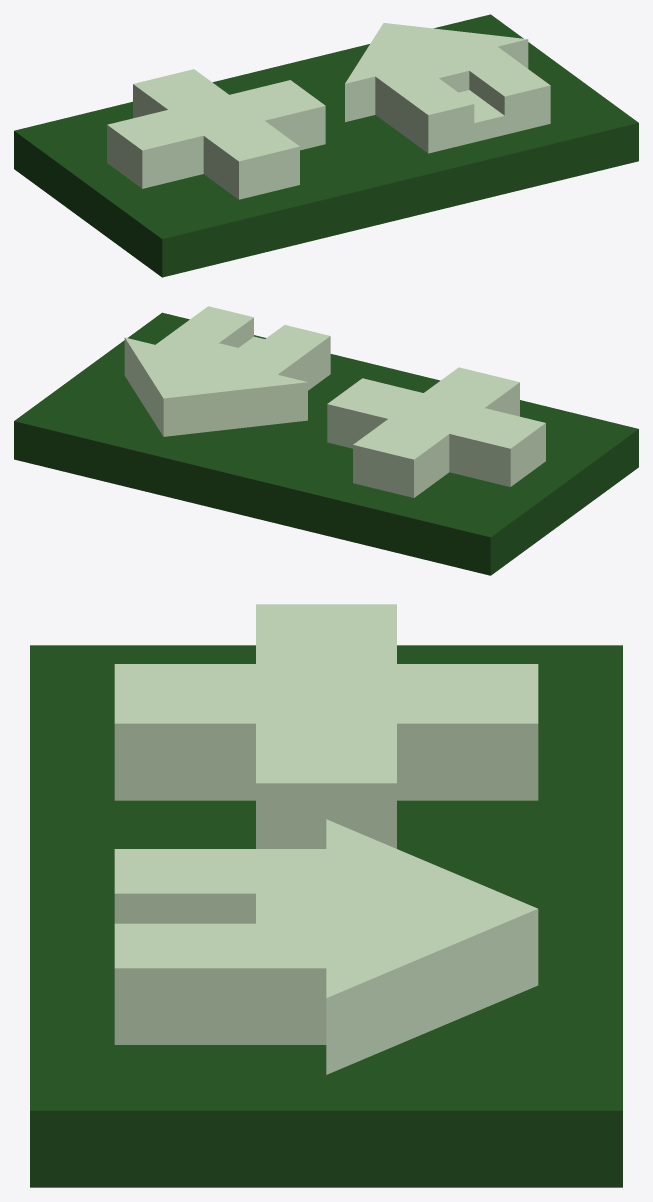
Rendered from createRoomButton.glb.
3 views of the same model, one above another, from view 1: azimuth 30°, elevation 25°; view 2: azimuth 150°, elevation 25°; view 3: azimuth 270°, elevation 25° (orthographic). The views are drawn at different scales.
Parts seen in each view (by area): view 1: Create Room Button; view 2: Create Room Button; view 3: Create Room Button.
Part boxes in pixels (box(x1,y1,x2,y2)): Create Room Button: box(14, 14, 638, 277); Create Room Button: box(14, 306, 638, 575); Create Room Button: box(30, 604, 622, 1187).
Bounding box in the file's own units: 2.6 × 0.4 × 1.4.
